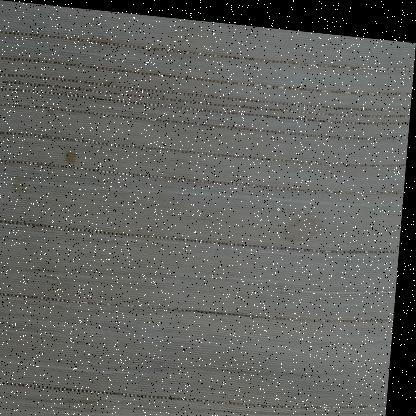spot: (287, 207, 327, 240), (11, 171, 40, 205), (64, 143, 84, 170), (98, 30, 113, 46), (46, 101, 60, 117), (105, 74, 121, 87)
